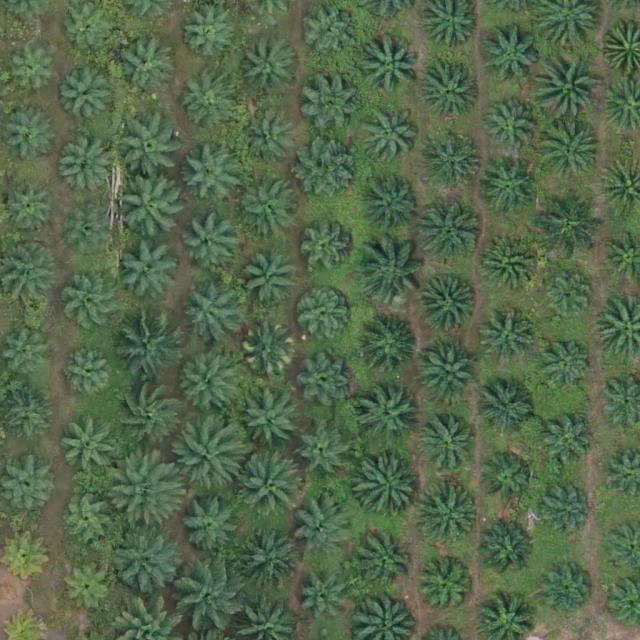Healthy: (359, 239, 429, 310), (177, 425, 247, 496), (177, 564, 248, 634), (112, 381, 182, 452), (115, 315, 185, 386), (115, 175, 185, 246), (536, 117, 606, 188), (237, 453, 307, 523), (110, 524, 180, 594), (110, 452, 180, 522), (537, 187, 607, 257), (533, 49, 603, 119), (477, 376, 540, 439), (240, 389, 303, 452), (177, 490, 240, 553), (122, 240, 185, 303), (59, 418, 122, 481), (122, 117, 185, 180), (179, 140, 242, 203), (237, 176, 300, 239), (419, 61, 482, 124), (477, 26, 540, 89), (479, 158, 542, 221), (476, 233, 538, 296), (475, 521, 537, 584), (419, 340, 481, 403), (419, 486, 481, 549), (359, 316, 421, 379), (356, 386, 418, 449), (356, 459, 418, 522), (357, 531, 420, 593), (295, 496, 358, 558), (237, 531, 300, 593), (174, 354, 237, 416), (113, 39, 175, 102), (300, 72, 362, 135), (299, 137, 361, 200), (363, 34, 425, 97), (359, 106, 421, 169), (361, 174, 423, 237), (420, 201, 482, 264), (424, 130, 487, 192), (418, 275, 480, 337), (61, 346, 116, 402), (544, 269, 599, 324), (537, 336, 592, 391), (539, 416, 594, 471), (535, 479, 590, 534), (539, 564, 594, 619), (483, 311, 538, 366), (420, 563, 475, 618), (181, 215, 236, 270), (181, 288, 236, 343), (66, 278, 121, 333), (59, 559, 114, 614), (60, 495, 115, 550), (7, 42, 62, 97), (59, 140, 114, 195), (180, 9, 235, 64), (179, 76, 234, 131), (240, 113, 295, 168), (244, 37, 299, 92), (303, 6, 358, 61), (483, 97, 538, 152), (480, 450, 534, 505), (423, 415, 477, 470), (300, 224, 354, 279), (298, 292, 352, 347), (300, 354, 354, 409), (298, 427, 352, 482), (298, 579, 352, 634), (241, 253, 295, 308), (3, 181, 57, 236), (3, 107, 57, 162), (62, 4, 116, 59), (61, 73, 115, 128)
Small: (68, 208, 115, 256)
Yellow: (242, 324, 296, 379), (5, 534, 52, 581)
